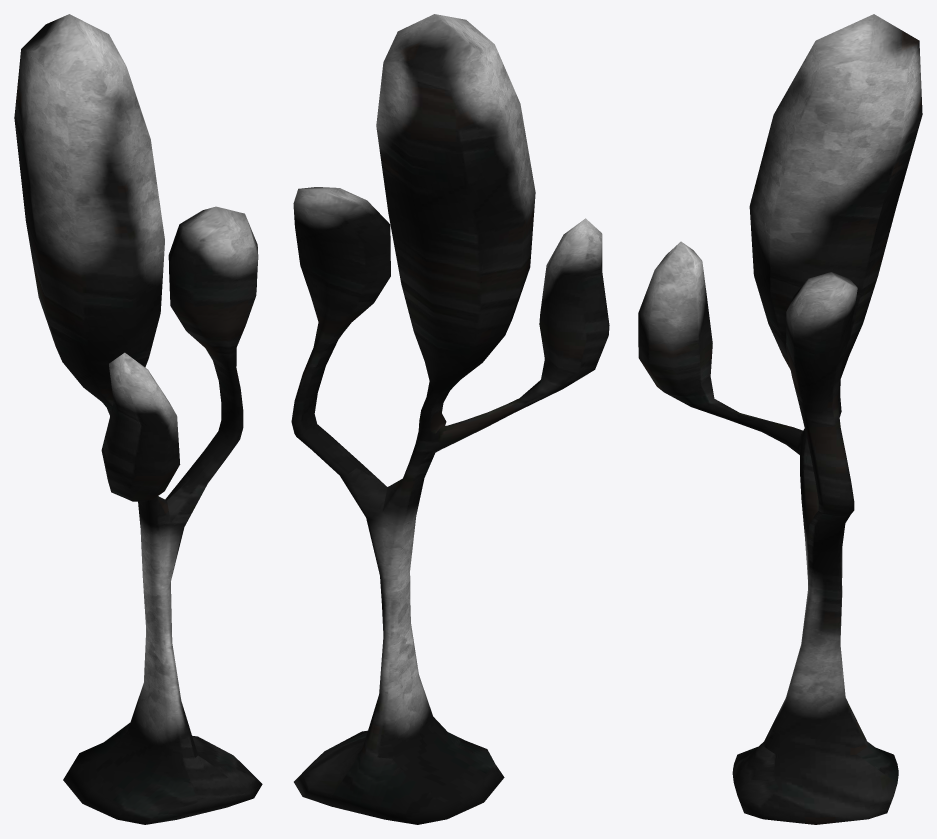
File: ChunkTreetwo.fbx
3 views of the same model, side by side, from view 1: azimuth 30°, elevation 25°; view 2: azimuth 150°, elevation 25°; view 3: azimuth 270°, elevation 25° (orthographic). The views are drawn at different scales.
Parts seen in each view (by area): view 1: ChunkTreetwo; view 2: ChunkTreetwo; view 3: ChunkTreetwo.
Part boxes in pixels (x1,y1,x2,y2): ChunkTreetwo: (14,14,262,824); ChunkTreetwo: (291,14,609,824); ChunkTreetwo: (638,14,922,824).
Size of the model in its own units: 611 by 2011 by 692.
Materials: 1 (1 with a texture image).
